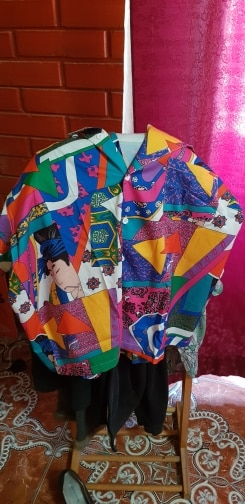shirts: (10, 122, 244, 372)
